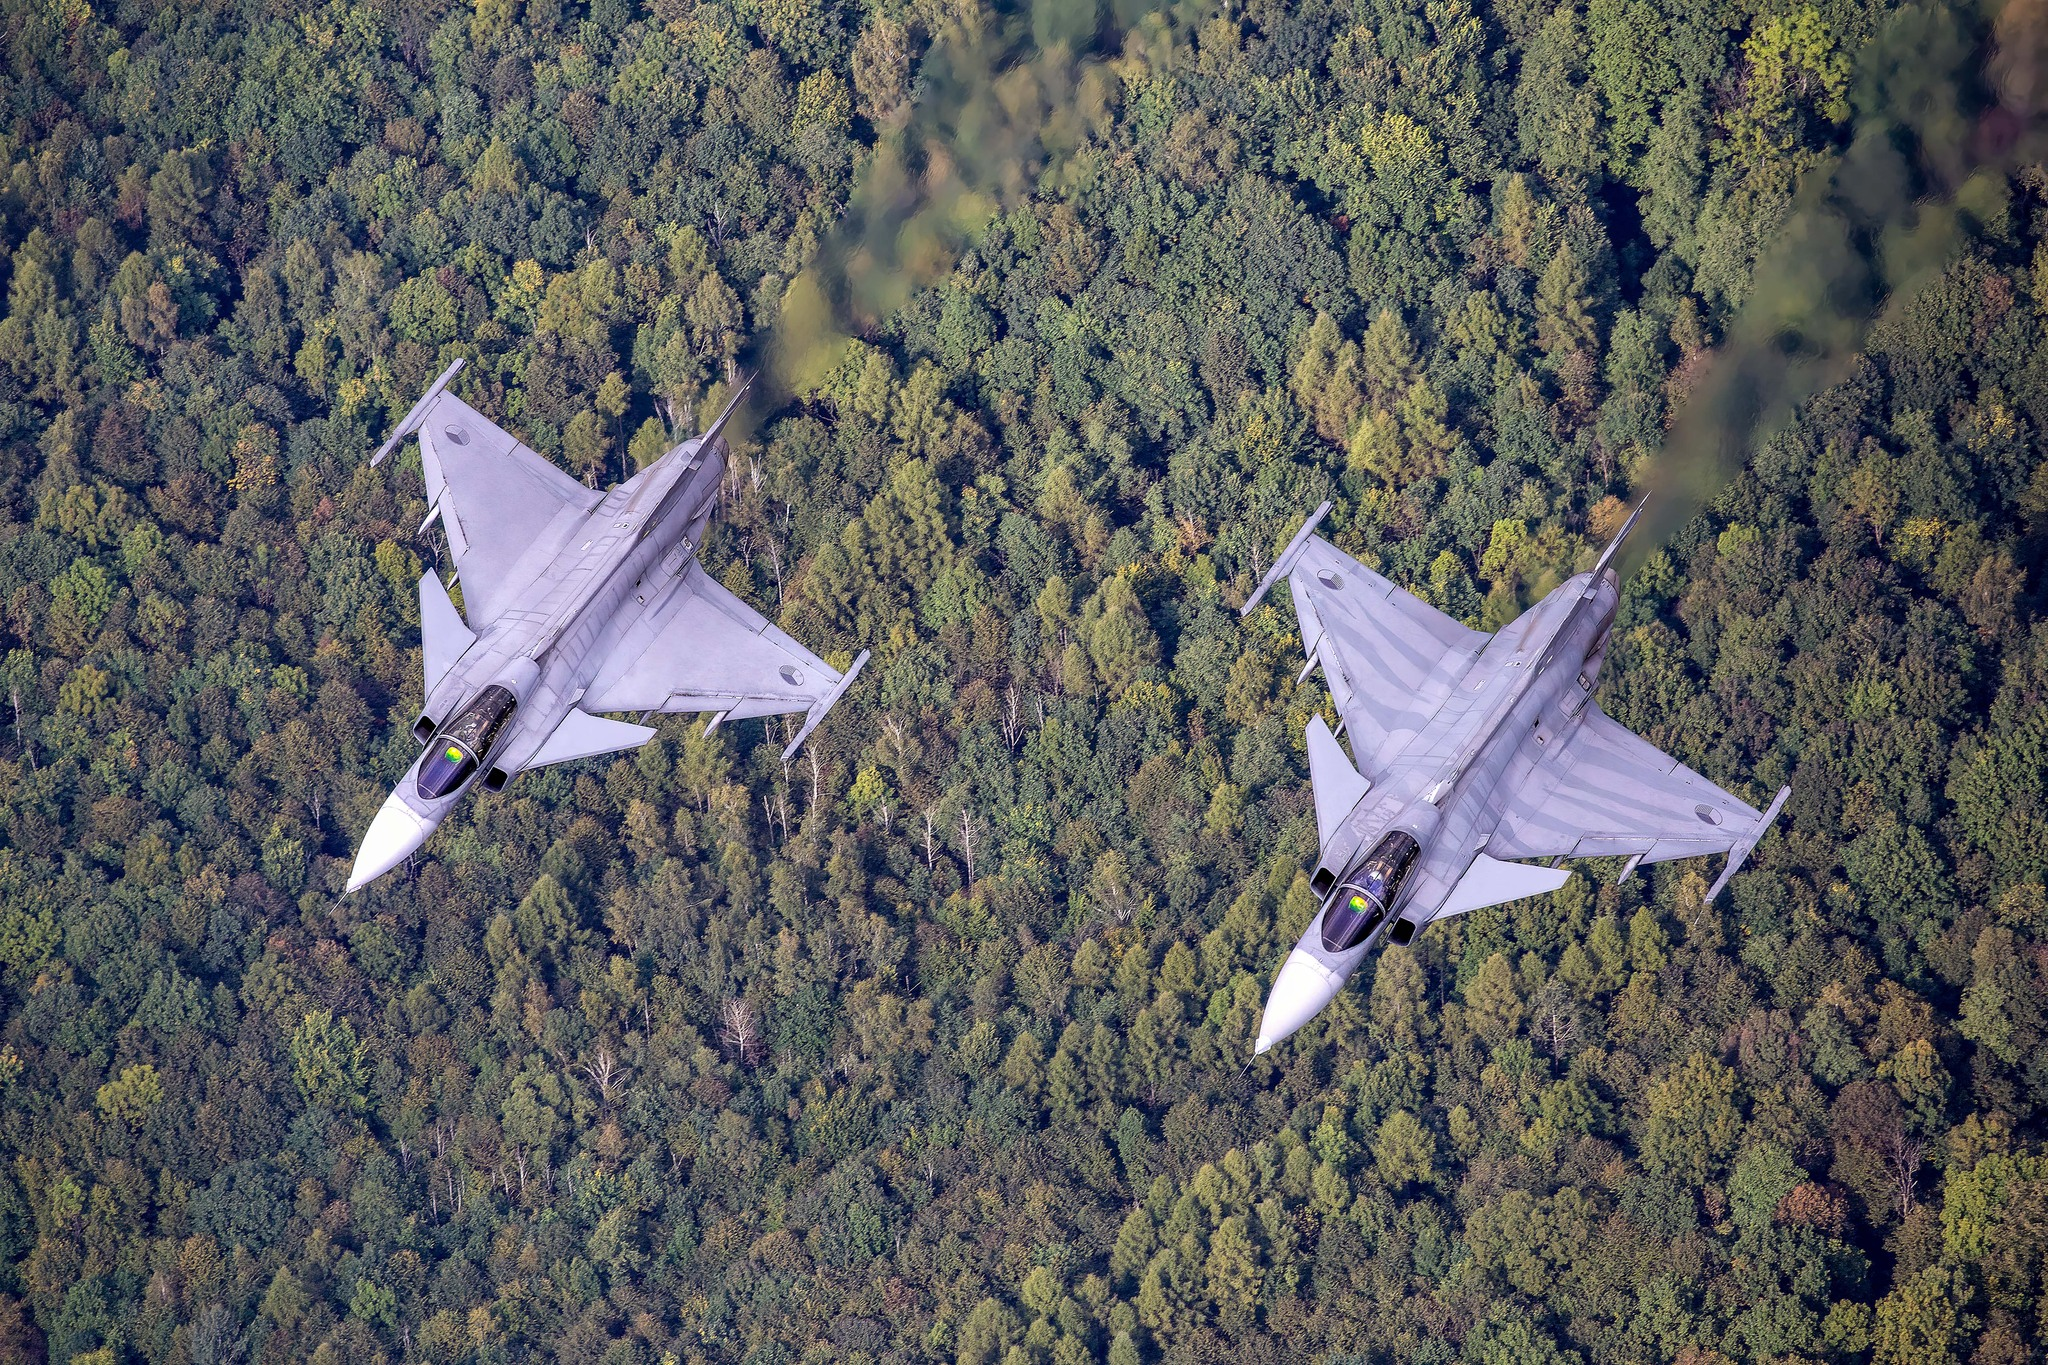JAS39: (1236, 487, 1792, 1082), (327, 356, 872, 917)
